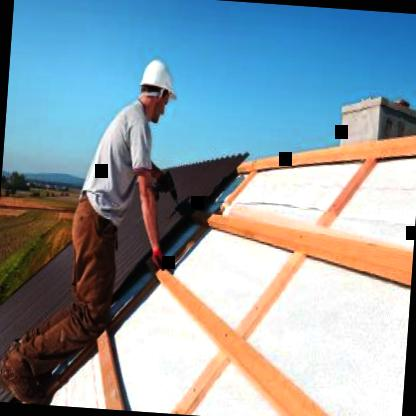helmet: (135, 53, 178, 123)
